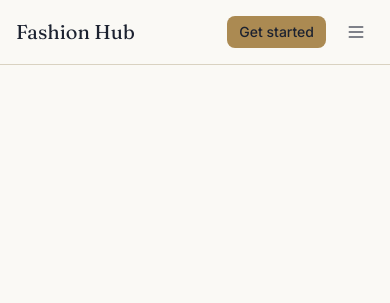
Header (unauthenticated) › toggles mobile menu on hamburger click
Click the button named "open menu": (356, 32) [338,14,374,50]
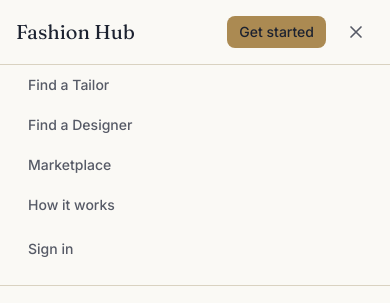
Expected: the button named "close menu" is shown, [338,14,374,50]
Expected: the navigation bar named "mobile navigation" is shown
